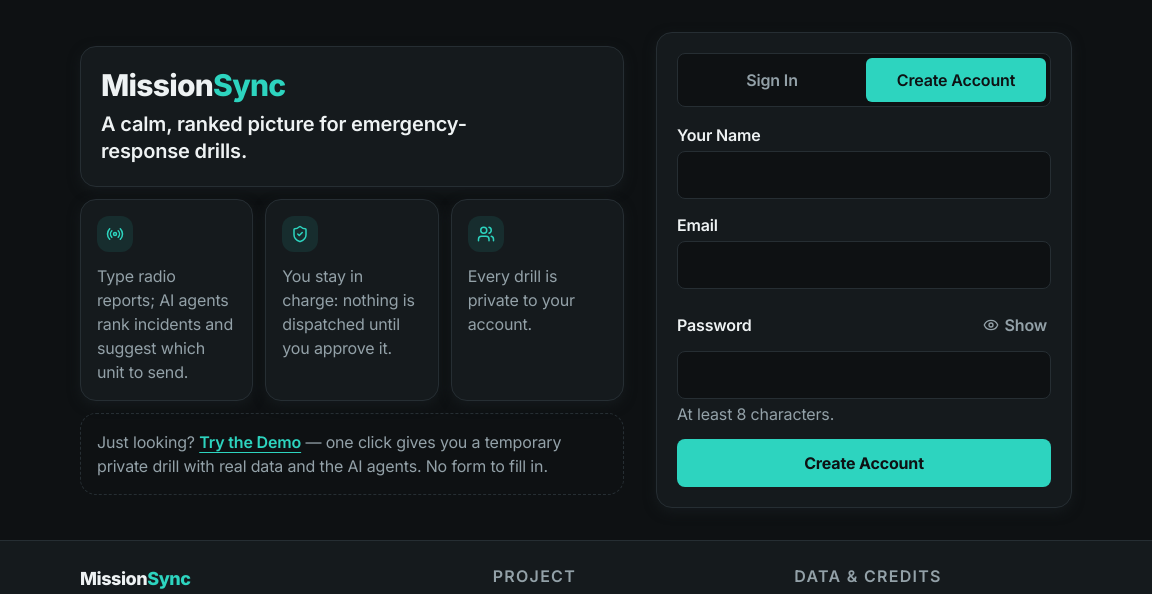
sign in and sign up forms › shows "email already used" next to the email field
Type "Ann" into the field labelled "Your Name" at (864, 175), box [677,151,1051,199]
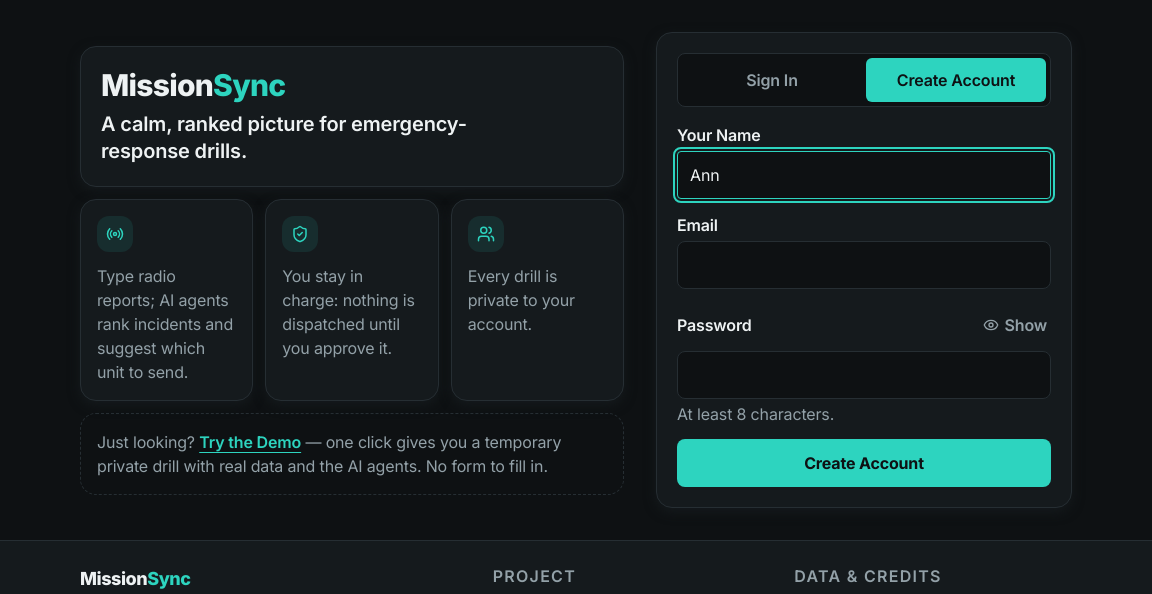
Type "ann@example.com" into the field labelled "Email" at (864, 265), box [677,241,1051,289]
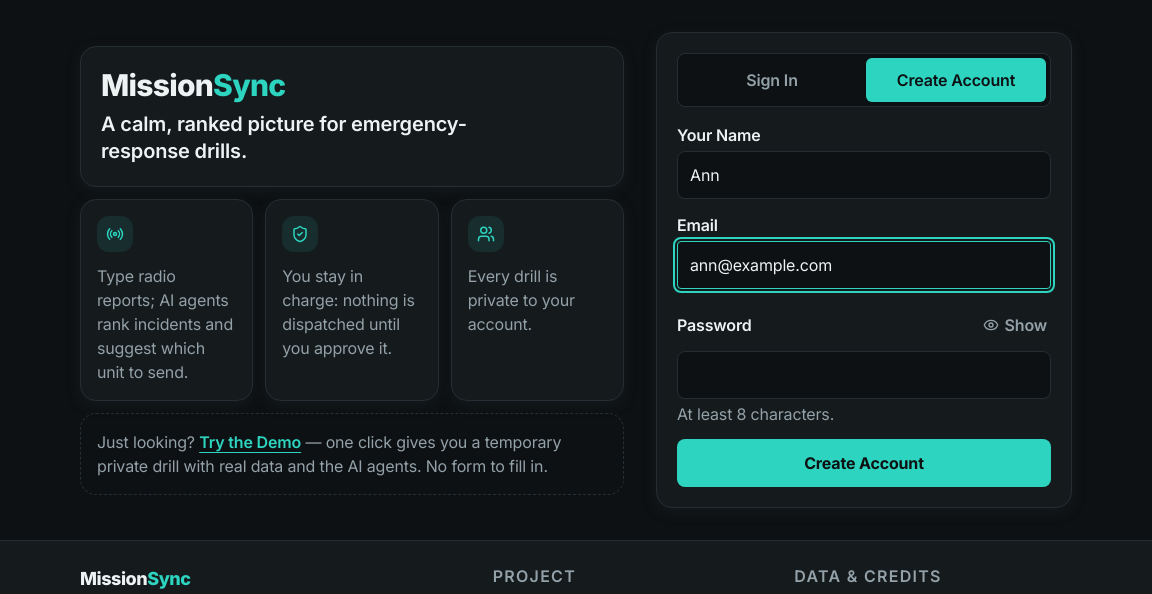
Type "a long passphrase" into the password field labelled "Password" at (864, 375), box [677,351,1051,399]
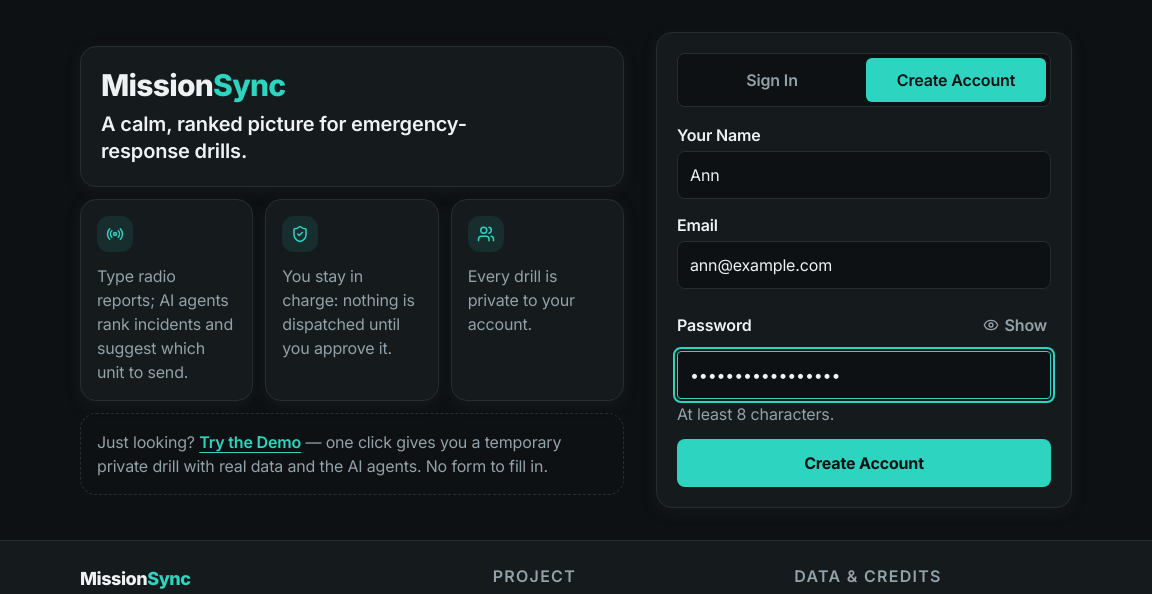
Click the button "Create Account" at (864, 463), box [677,439,1051,487]
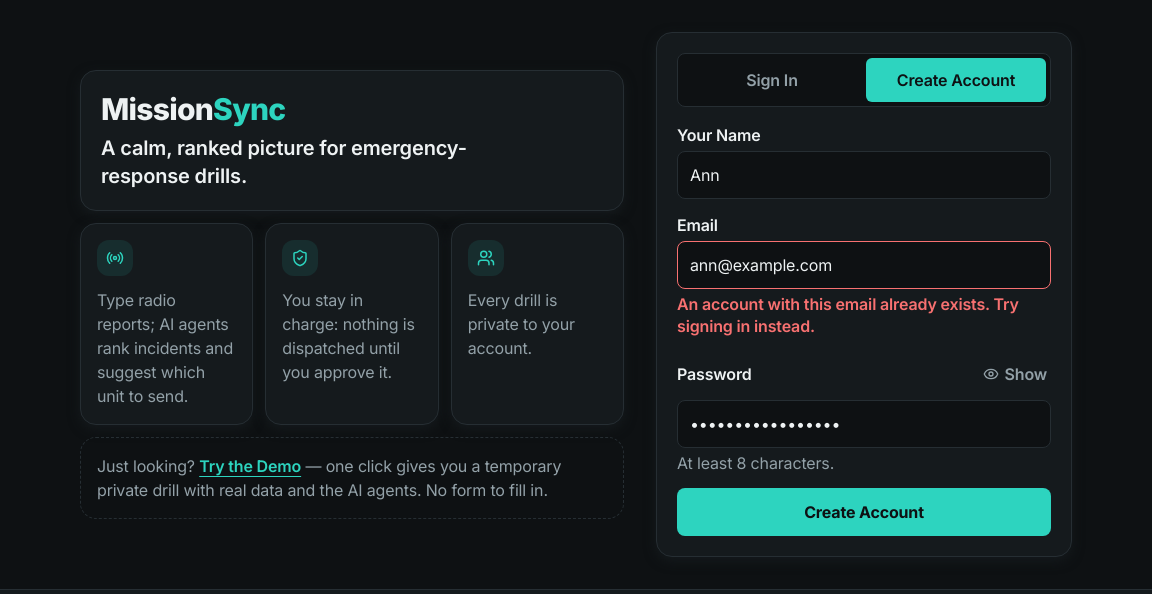
Check: the text "An account with this email already exists. Try signing in instead." is shown, box [677,293,1051,338]
